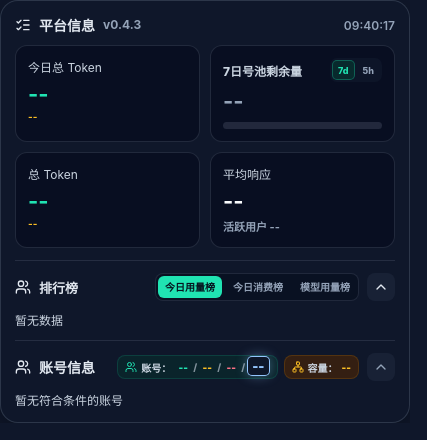
Test: App settings sync › collapses the ranking while keeping its tabs available
Click the button with class "ranking-toggle" at (381, 287), box [367, 273, 395, 301]
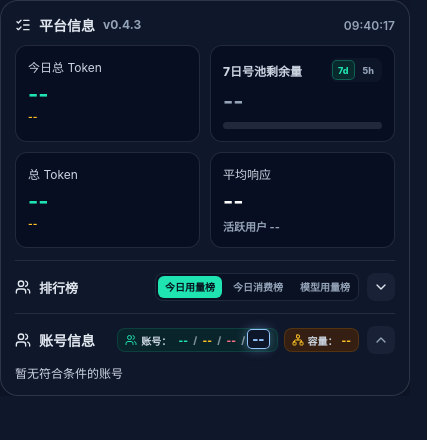
Expected: the text "今日用量榜" is shown, [158, 276, 222, 298]
Result: the button with class "ranking-toggle" is collapsed at [367, 273, 395, 301]
